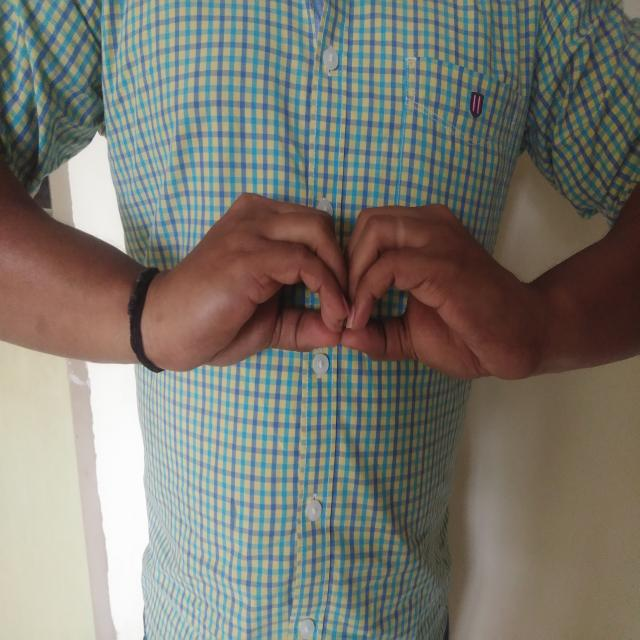B: (148, 185, 484, 352)
